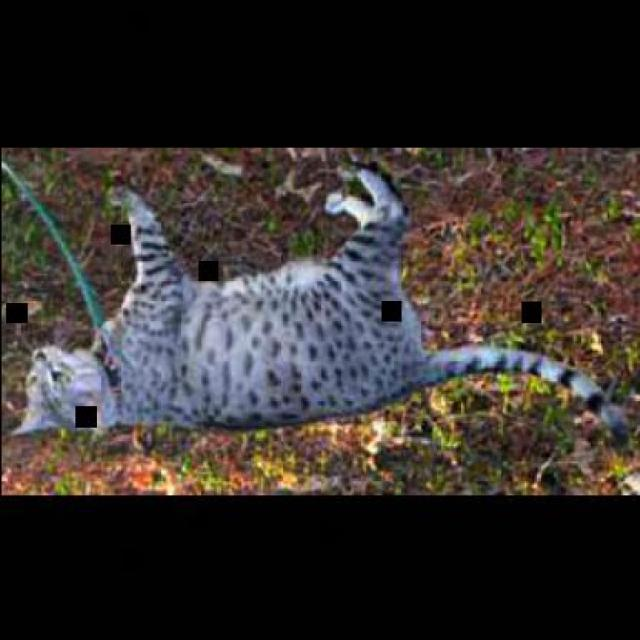unauthorized: (9, 161, 628, 437)
